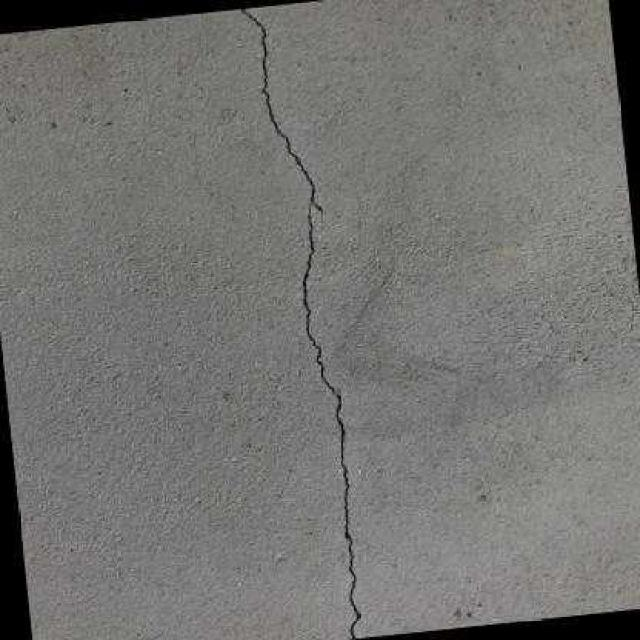D00: (239, 6, 361, 639)
